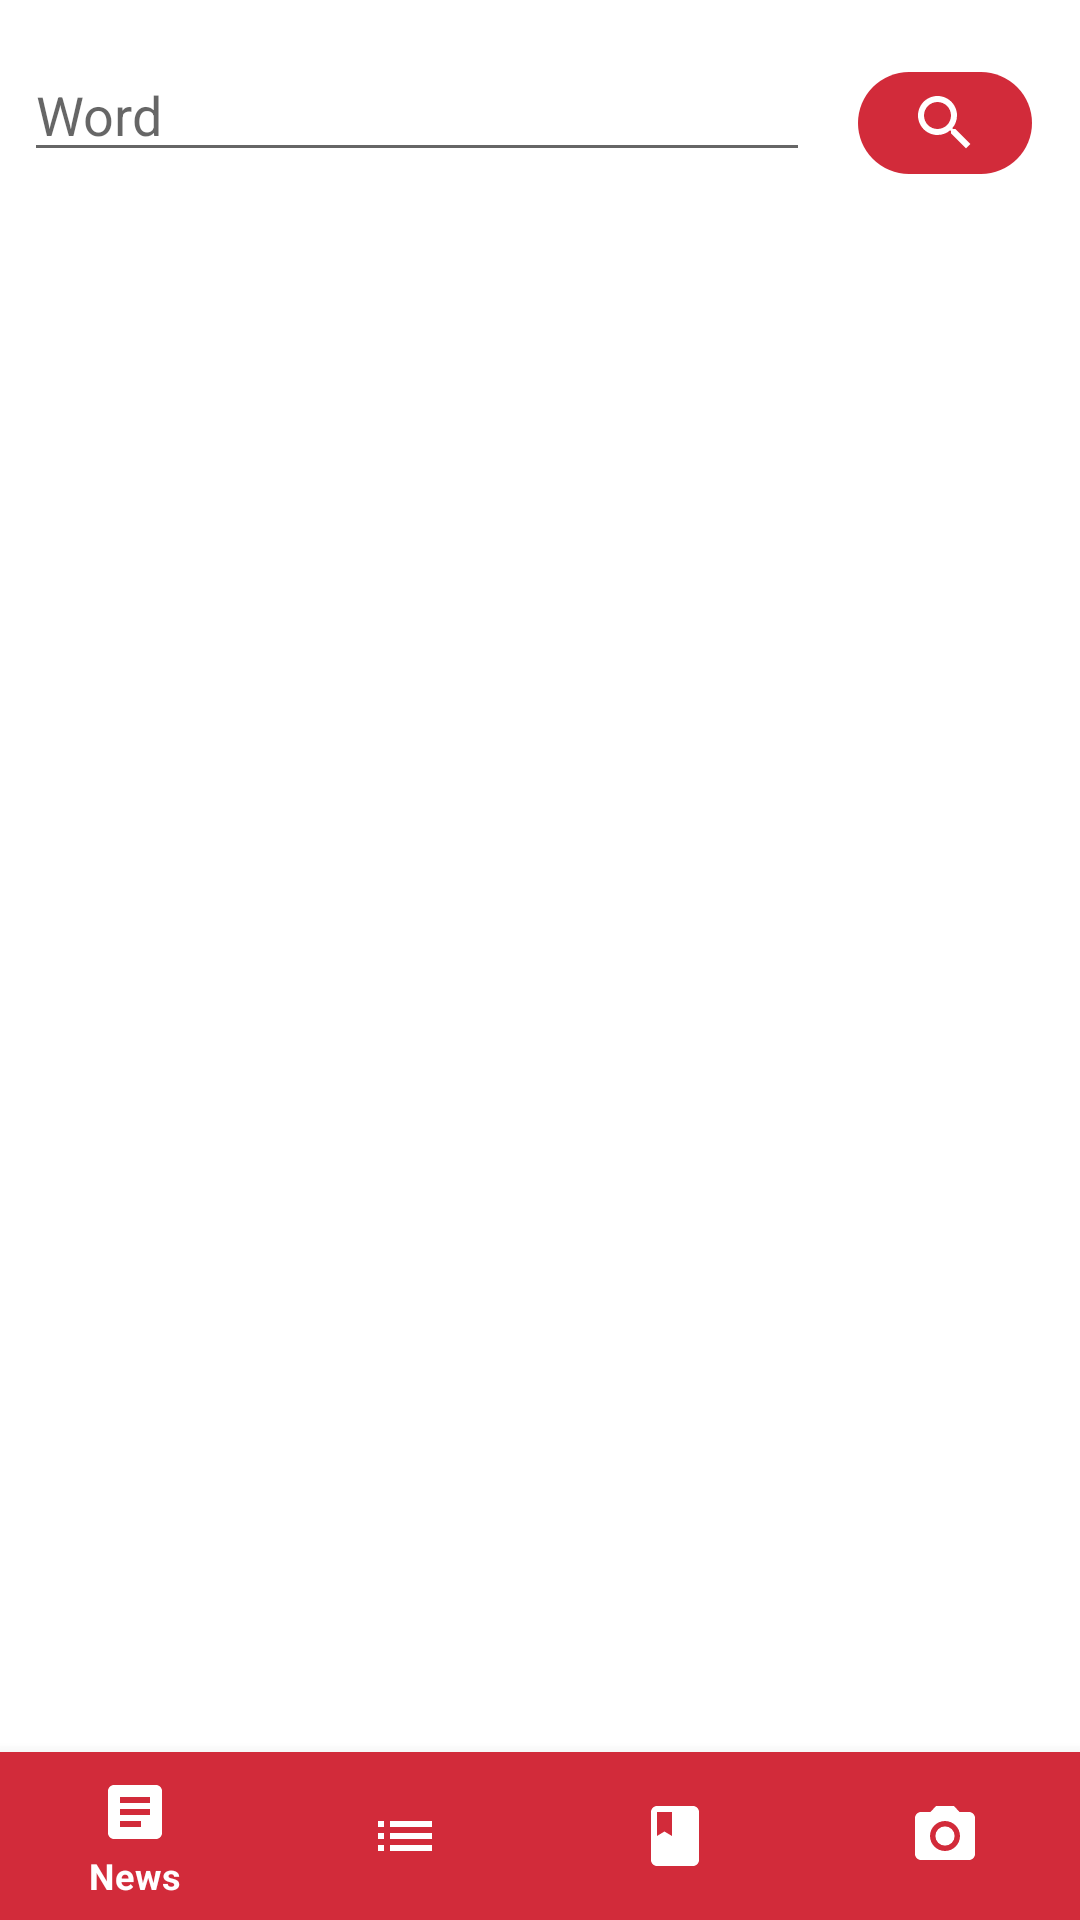

Icon click points for this 1080px x 1920px phone screenshot, format point (x, y):
A icon of magnifying glass to represent a search icon: point (945, 123)
